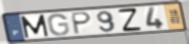4: (145, 5, 165, 30)
9: (96, 9, 117, 33)
G: (47, 13, 71, 37)
M: (19, 14, 50, 39)
P: (71, 11, 94, 36)
Z: (117, 7, 144, 32)
